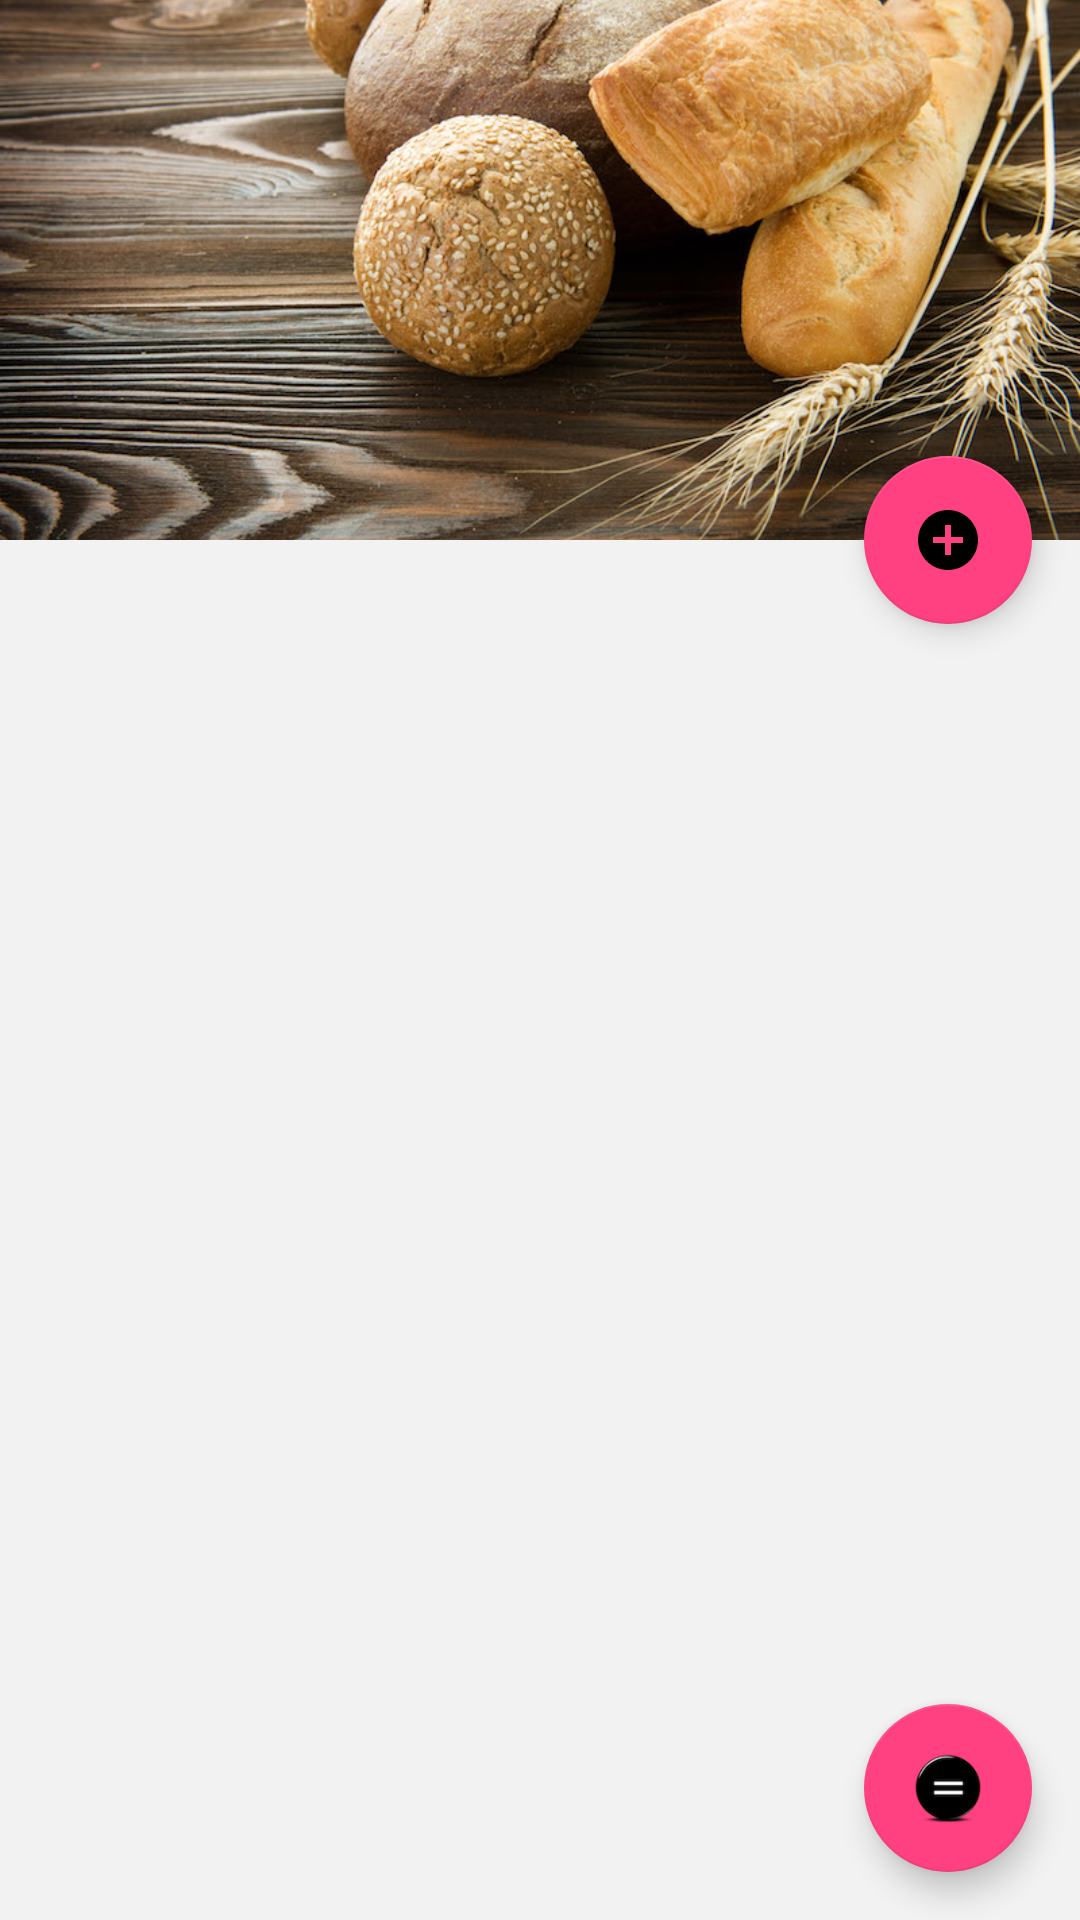

Point at icon controls on the screen. Image size 1080 x 1920, points as [x,y].
add circle: [948,540]
equal: [948,1788]
